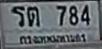4: (80, 4, 89, 25)
7: (56, 5, 66, 25)
8: (69, 5, 78, 25)
A21: (26, 6, 38, 26)
A35: (10, 5, 24, 26)
BKK: (18, 32, 87, 44)
